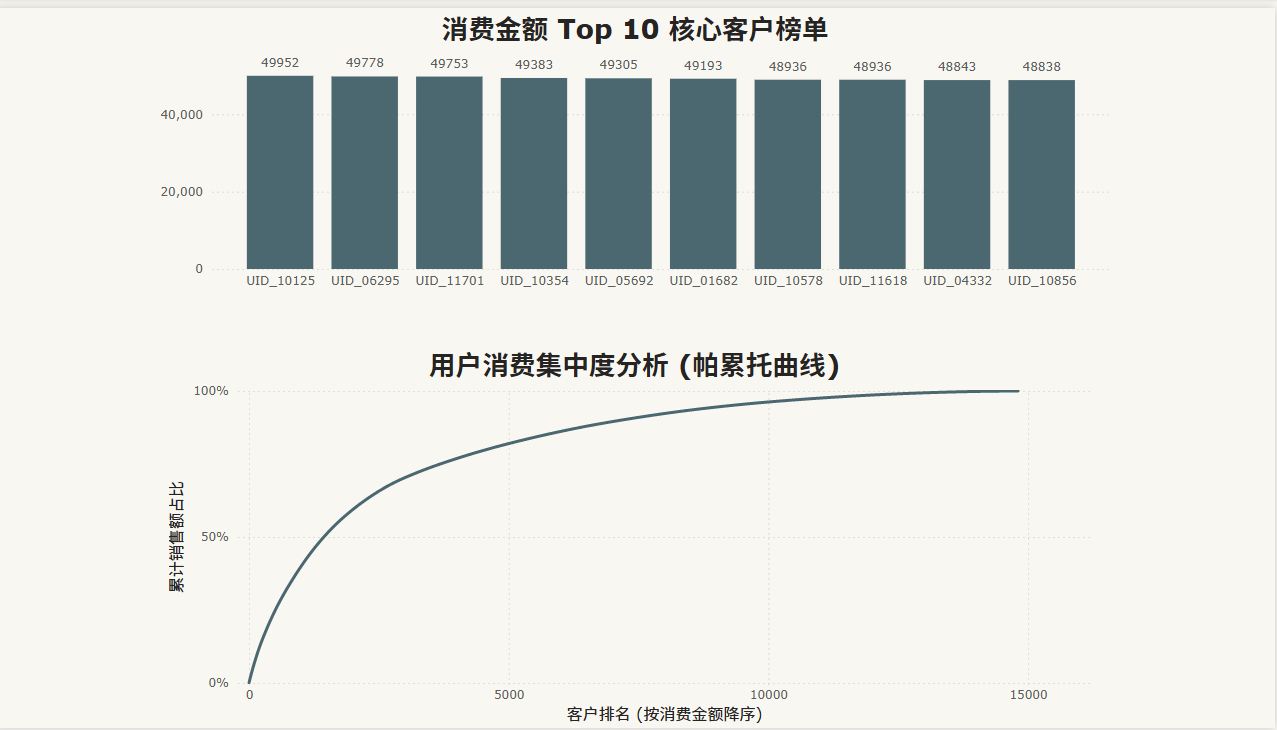

The page's visual inventory and layout, read from the dashboard file:
{"tool":"powerbi","page":{"name":"用户贡献","canvas":[1280,720],"ordinal":2},"visuals":[{"type":"clusteredColumnChart","title":"消费金额 Top 10 核心客户榜单","fields":{"Category":["user_summary.new_user_id"],"Y":["Sum(user_summary.total_gmv)"]},"box":[160.5,0,959,289.8],"z":0},{"type":"lineChart","title":"用户消费集中度分析 (帕累托曲线)","fields":{"Y":["Sum(user_summary.cum_pct)"],"Category":["user_summary.rank"]},"box":[169.2,335.6,940.5,384.2],"z":1000}]}

Visuals, with their boxes in screenshot pixels (x1, y1, x2, y2), scaled from the page's 1280x720 canvas onto the 1277x730 screenshot:
"消费金额 Top 10 核心客户榜单" clusteredColumnChart: Rect(160, 0, 1117, 294)
"用户消费集中度分析 (帕累托曲线)" lineChart: Rect(169, 340, 1107, 729)
